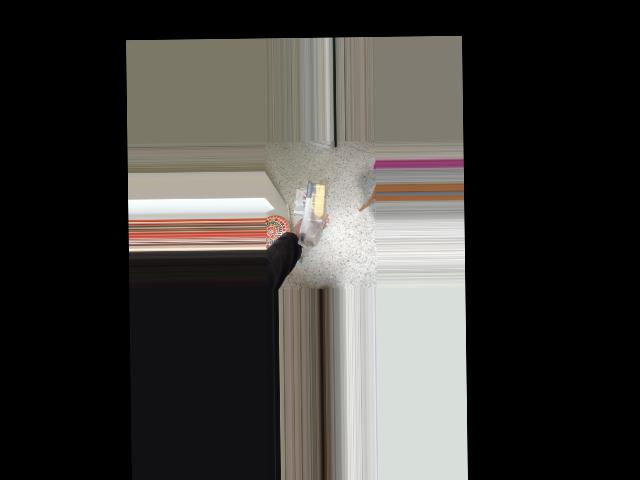cheese: (297, 181, 328, 245)
